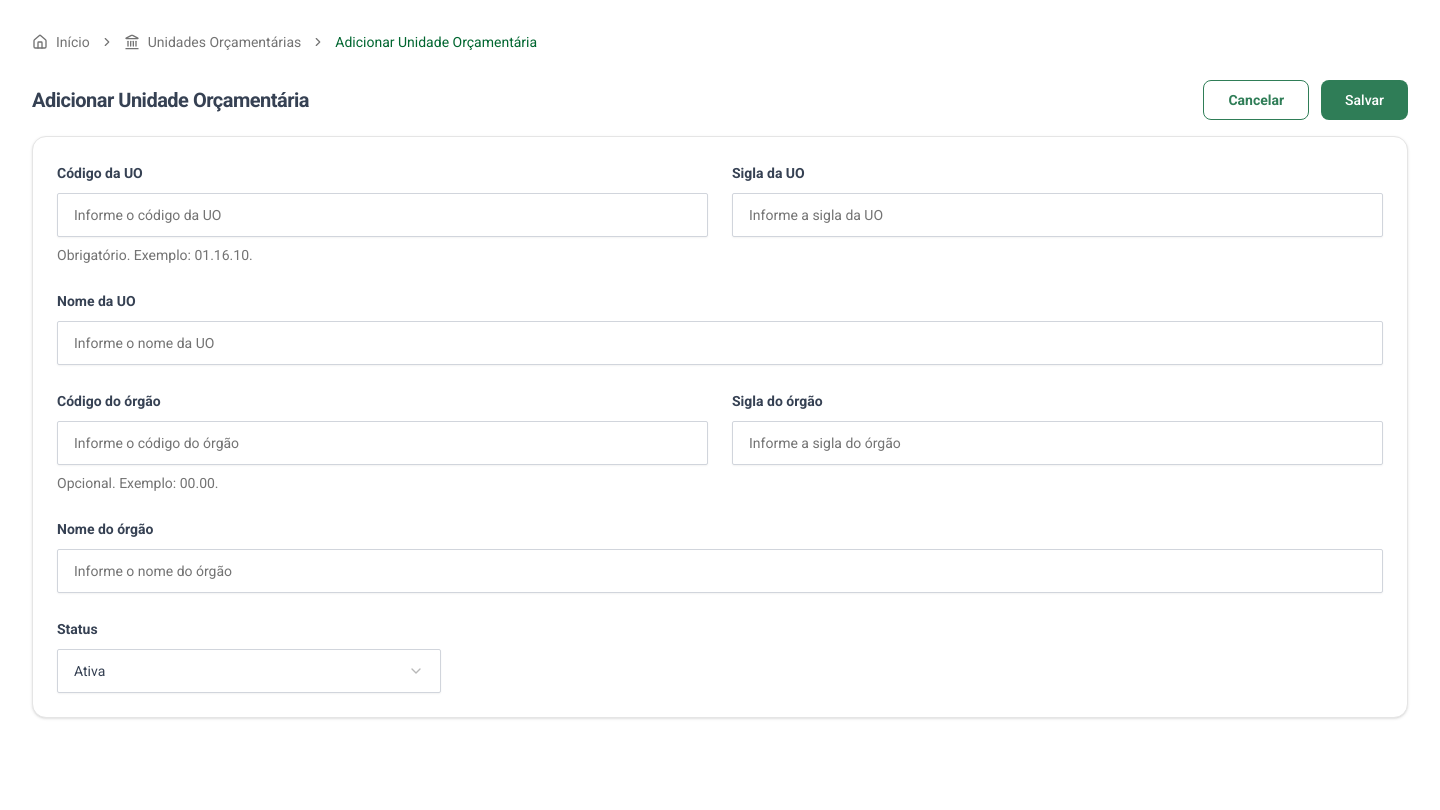
UnidadesOrcamentariasCreatePage › exibe erro inesperado retornado como Error
The width and height of the screenshot is (1440, 810).
Type "60.60.60" into the field labelled "Código da UO".
click(382, 215); type("60.60.60")  # box top-left (57, 193), bottom-right (708, 237)
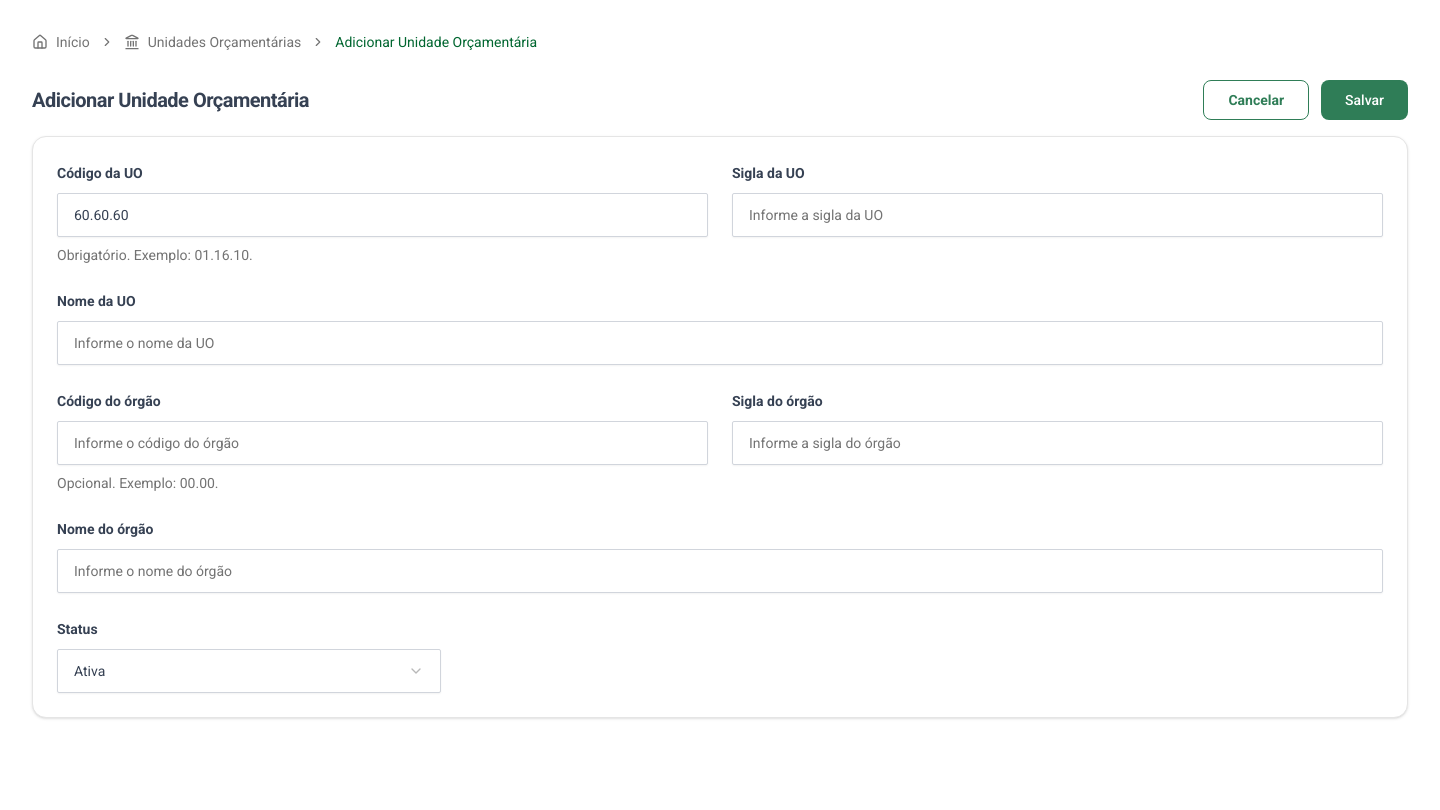
Type "UO60" into the field labelled "Sigla da UO".
click(1058, 215); type("UO60")  # box top-left (732, 193), bottom-right (1383, 237)
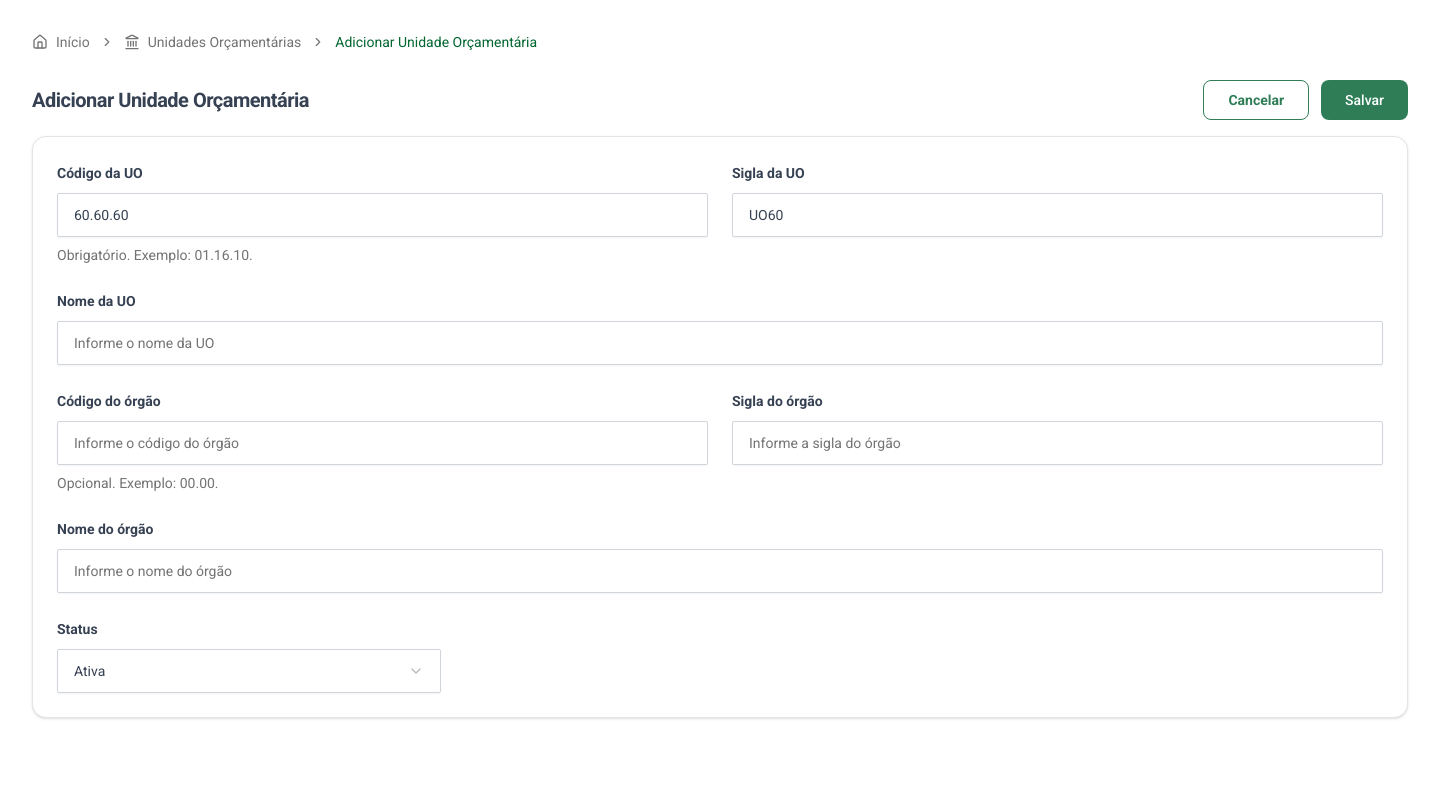
Type "UO 60" into the field labelled "Nome da UO".
click(720, 343); type("UO 60")  # box top-left (57, 321), bottom-right (1383, 365)
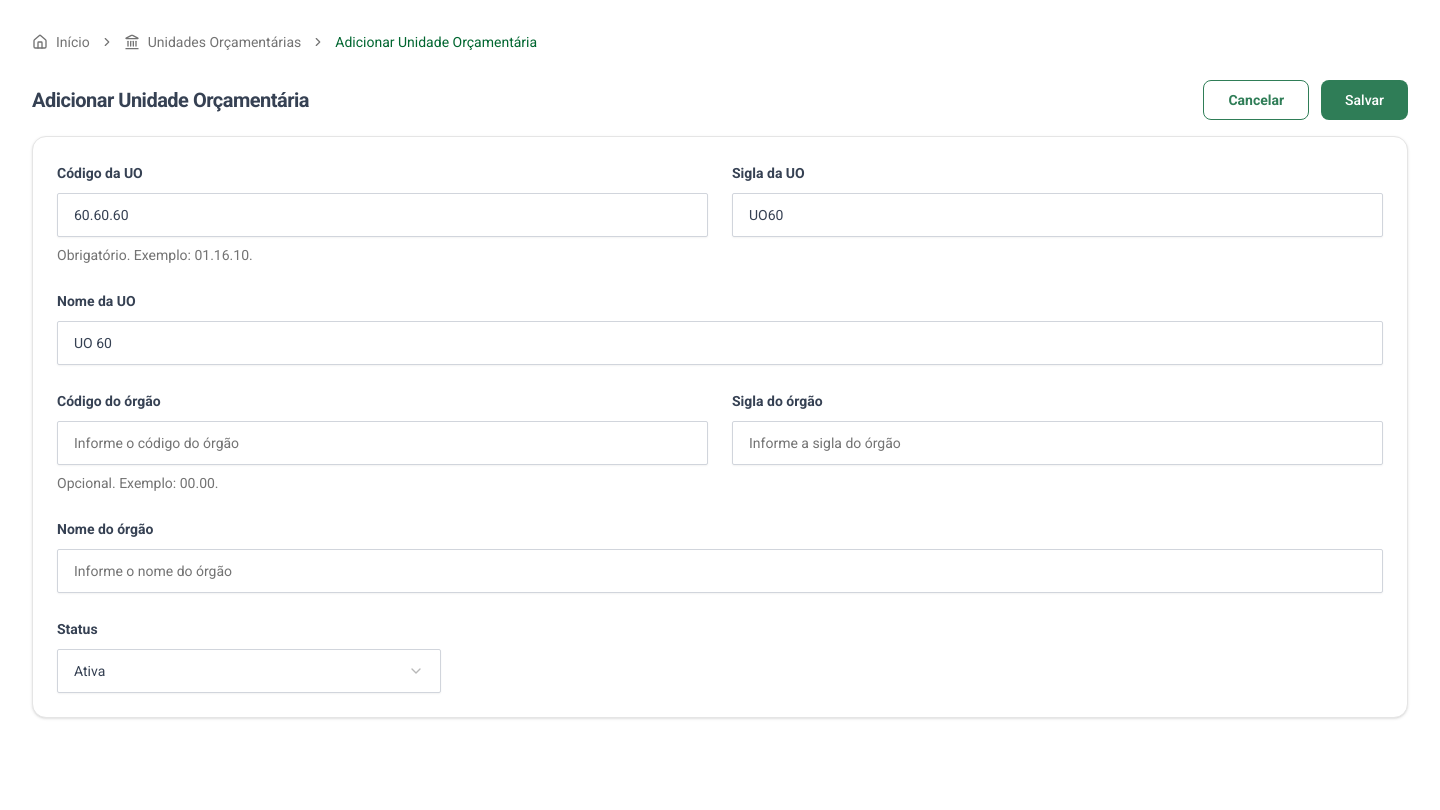
Click the button "Salvar".
click(1365, 100)  # box top-left (1321, 80), bottom-right (1408, 120)
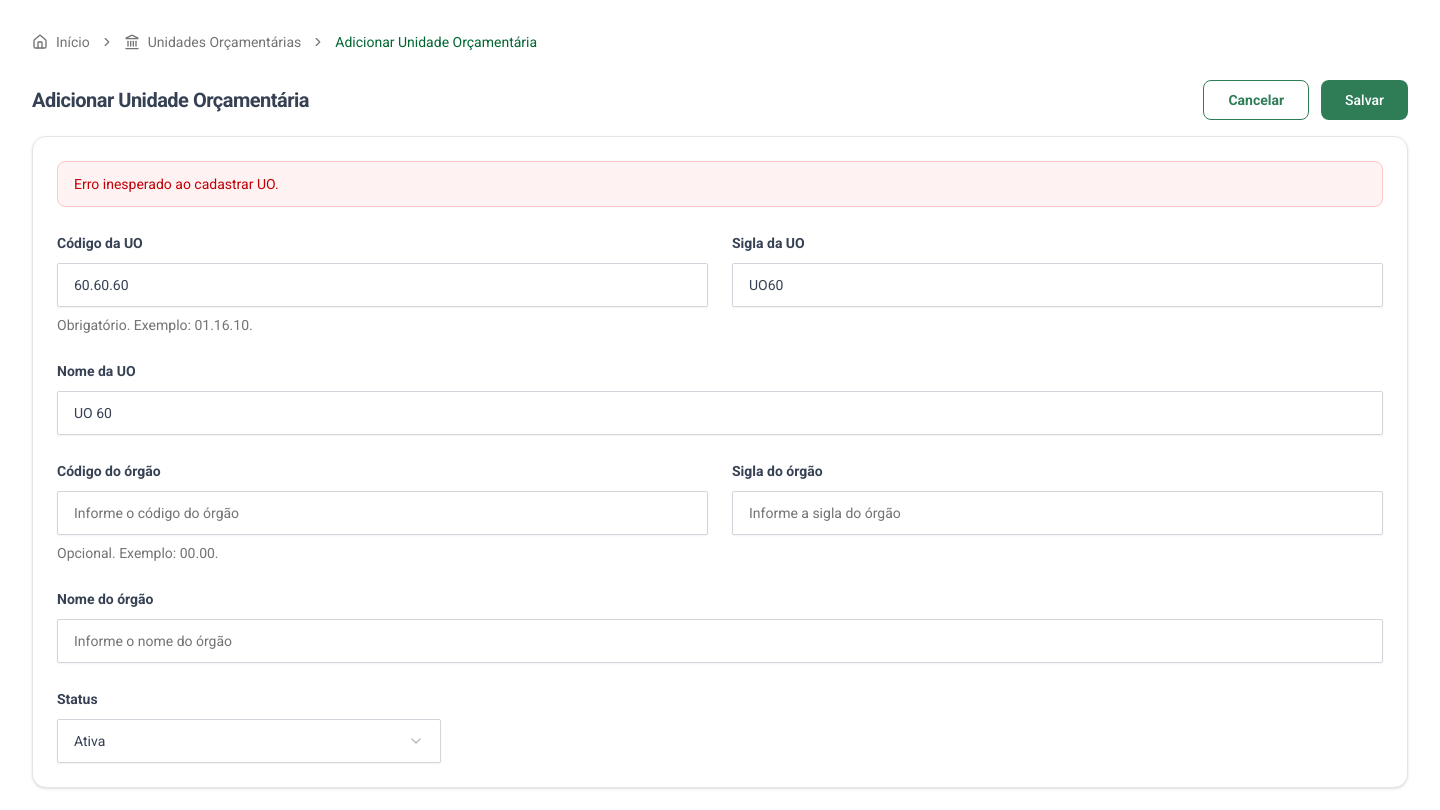
Check: the text "Erro inesperado ao cadastrar UO." is shown, box top-left (57, 161), bottom-right (1383, 207)
